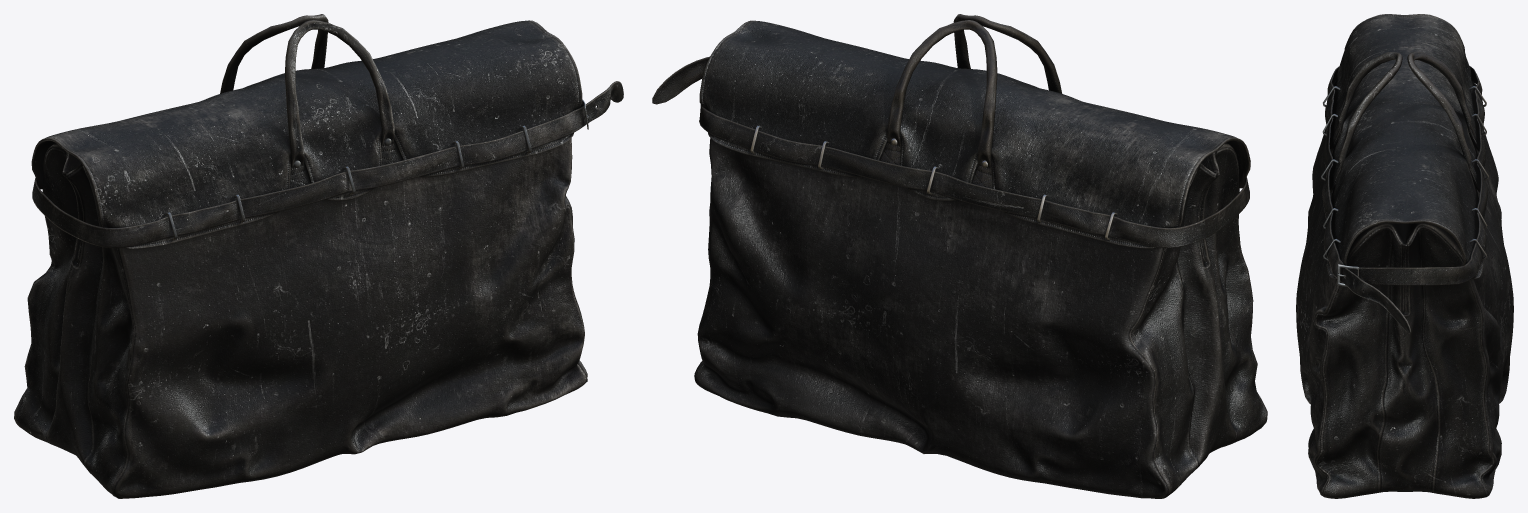
The model's file is bag.glb.
3 renders of one model, left to right at view 1: azimuth 30°, elevation 25°; view 2: azimuth 150°, elevation 25°; view 3: azimuth 270°, elevation 25°, orthographic. The views are drawn at different scales.
Visible parts, largest first — view 1: Material98-material-material, Material94-material-material, Material102-material-material; view 2: Material98-material-material, Material94-material-material; view 3: Material98-material-material, Material94-material-material, Material102-material-material.
Boxes of the visible parts, box(x1,y1,x2,y2) form: Material98-material-material: box(14, 138, 587, 498); Material94-material-material: box(31, 14, 623, 248); Material102-material-material: box(165, 99, 588, 240); Material98-material-material: box(694, 138, 1267, 498); Material94-material-material: box(652, 14, 1250, 248); Material98-material-material: box(1296, 128, 1513, 498); Material94-material-material: box(1322, 14, 1487, 333); Material102-material-material: box(1321, 86, 1488, 286).
Bounding box in the file's own units: 0.9215 × 0.6172 × 0.3463.
Materials: 3 (3 with a texture image).
